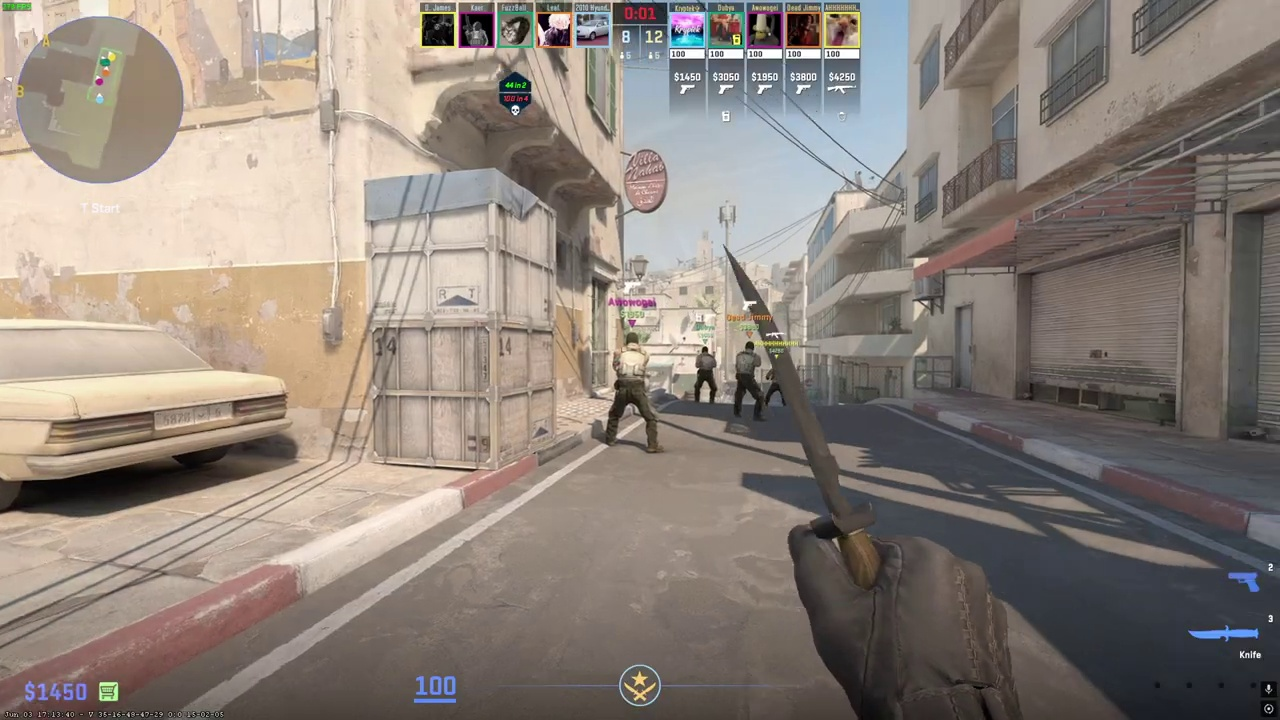Terrorist: (606, 332, 660, 453), (734, 341, 766, 422), (693, 346, 718, 404), (765, 367, 786, 408)
